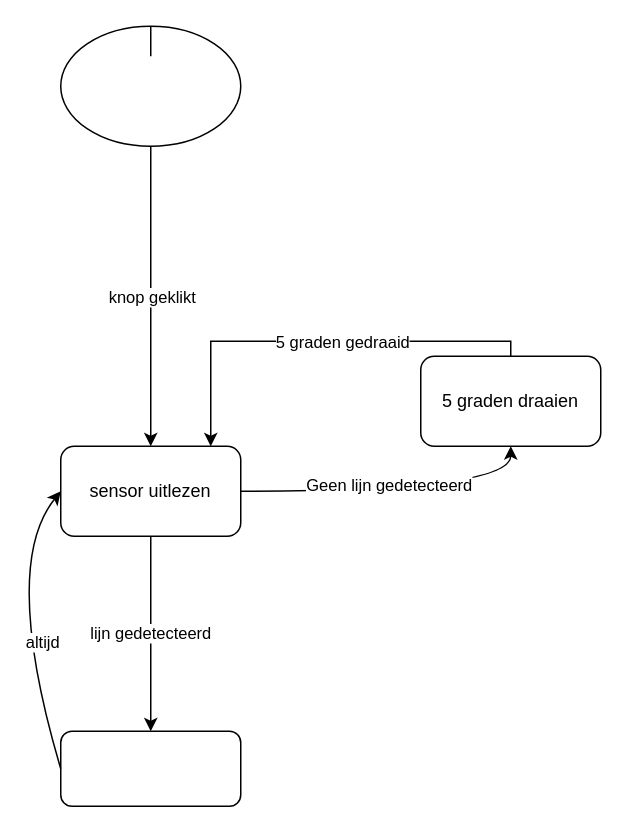
Some shapes in this 629 by 833 pixel diagram are drawn without their labels. Here are the shapes that lost their labels. From the top down, the box of each, then its label:
(59, 25, 241, 146): start
(59, 730, 241, 806): rijden in richting lijn
